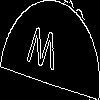W: (25, 25, 59, 80)
